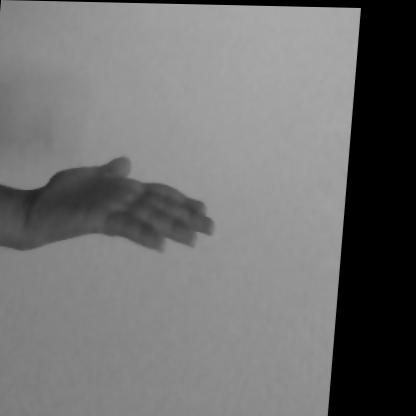palm: (0, 112, 239, 332)
